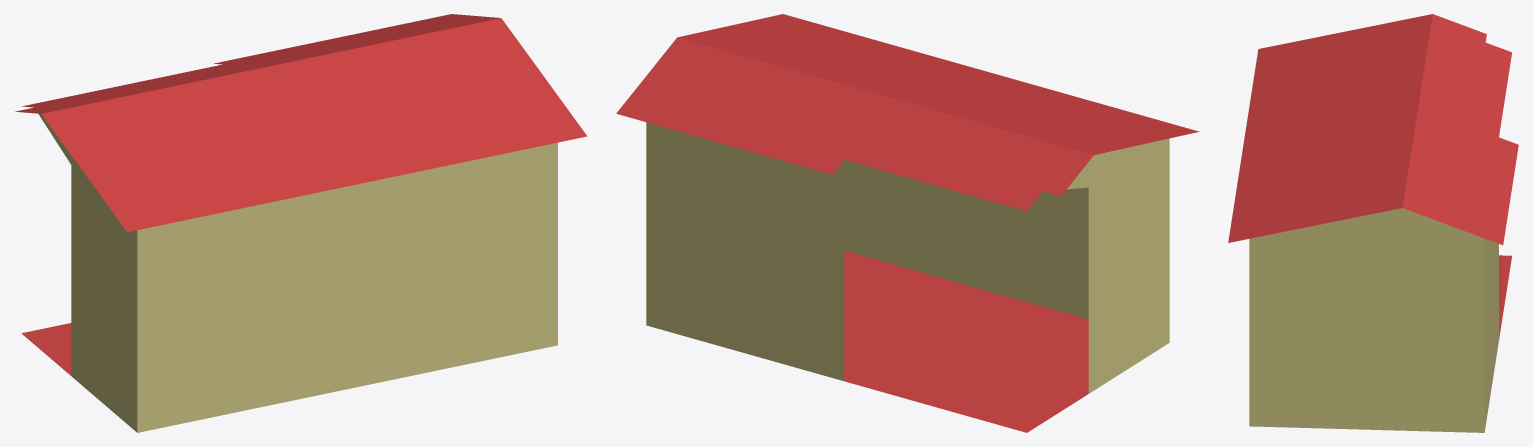
3 renders of one model, left to right at view 1: azimuth 30°, elevation 25°; view 2: azimuth 150°, elevation 25°; view 3: azimuth 270°, elevation 25°, orthographic. The views are drawn at different scales.
Bounding box in the file's own units: 17.98 × 10.95 × 9.61.
